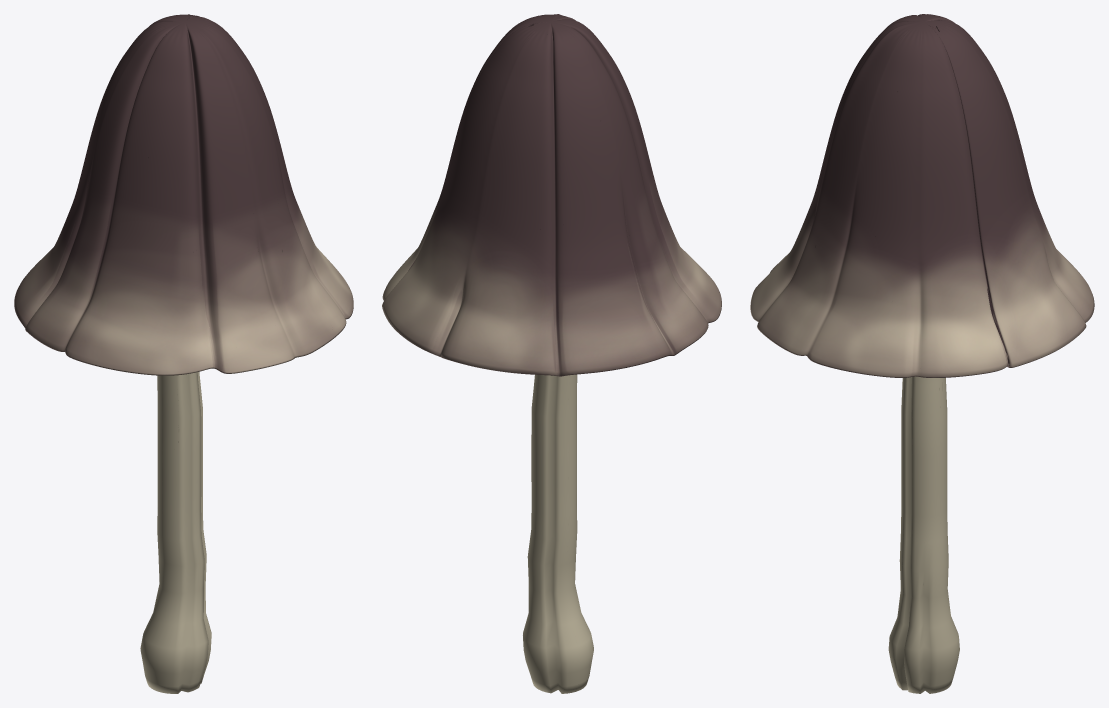
File: langerPilz.fbx
The picture shows the model from 3 angles, left to right: view 1: azimuth 30°, elevation 25°; view 2: azimuth 150°, elevation 25°; view 3: azimuth 270°, elevation 25°; orthographic projection.
Visible parts, largest first — view 1: MushroomHead, MushroomBody; view 2: MushroomHead, MushroomBody; view 3: MushroomHead, MushroomBody.
Part boxes in pixels (box(x1,y1,x2,y2)): MushroomHead: box(14, 14, 353, 375); MushroomBody: box(140, 371, 211, 693); MushroomHead: box(382, 14, 721, 376); MushroomBody: box(523, 374, 593, 693); MushroomHead: box(750, 14, 1094, 377); MushroomBody: box(888, 376, 959, 693).
Size of the model in its own units: 92.29 by 199 by 93.01.
Materials: 2 (2 with a texture image).
